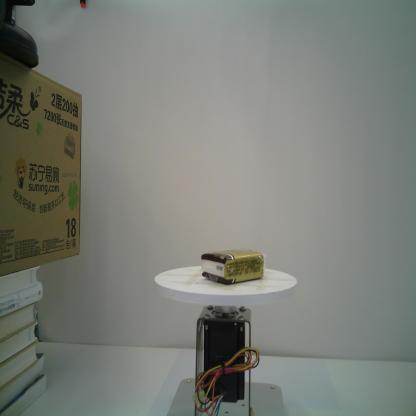Tissue: (200, 248, 266, 285)
